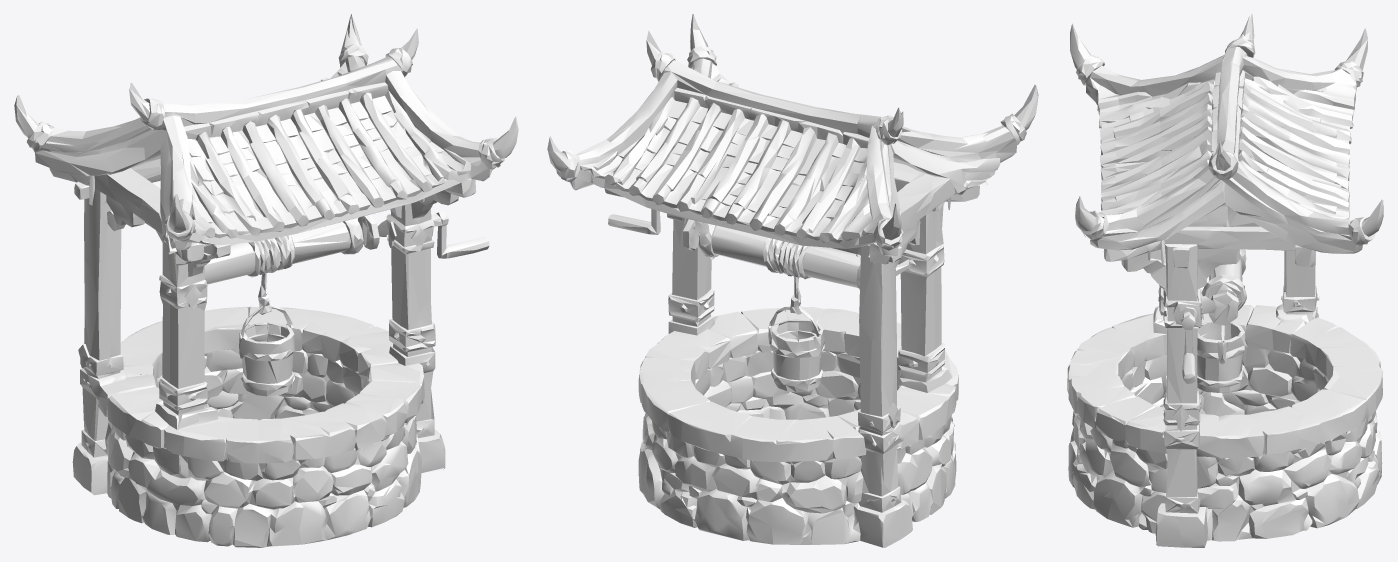
File: well_stone.glb
3 views of the same model, side by side, from view 1: azimuth 30°, elevation 25°; view 2: azimuth 150°, elevation 25°; view 3: azimuth 270°, elevation 25° (orthographic). The views are drawn at different scales.
Parts seen in each view (by area): view 1: Mesh_0; view 2: Mesh_0; view 3: Mesh_0.
Part boxes in pixels (x1,y1,x2,y2): Mesh_0: (14, 14, 518, 547); Mesh_0: (547, 14, 1038, 547); Mesh_0: (1067, 14, 1383, 547).
Bounding box in the file's own units: 3.18 × 3.3 × 2.33.
1 material, 1 textured.
